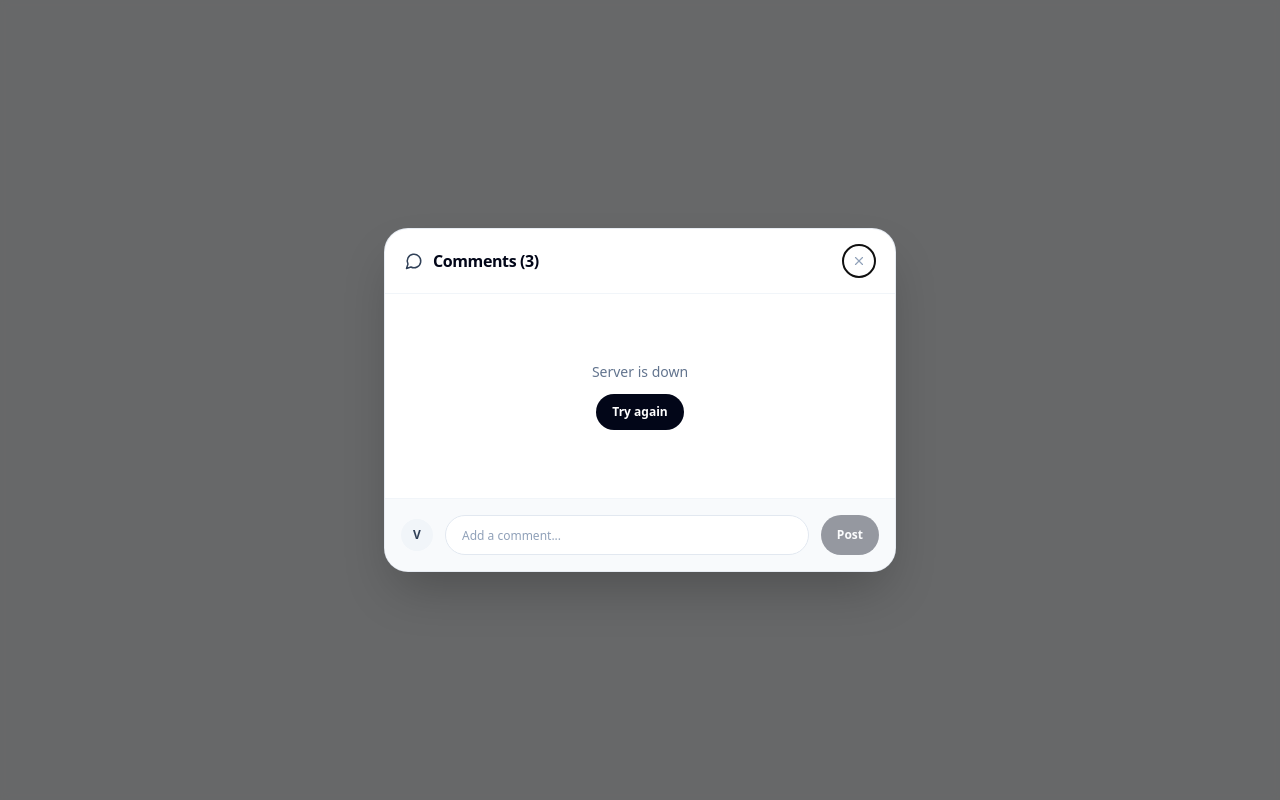
Test: PostCommentsModal › shows a retry when comments fail to load
Expected: the text "Server is down" is shown, [592, 362, 688, 382]
Click the button "Try again" at (640, 412), box [596, 394, 684, 430]
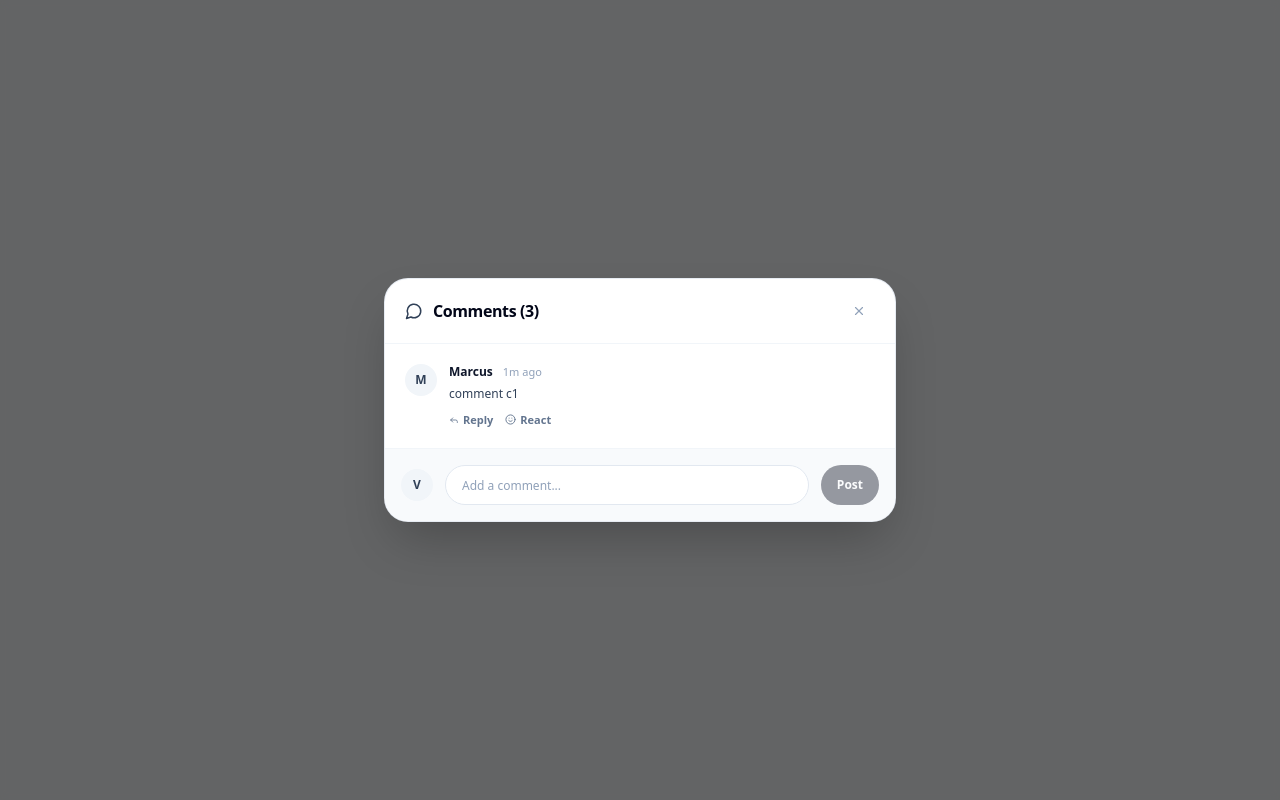
Result: the text "comment c1" is shown at [449, 385, 519, 402]
